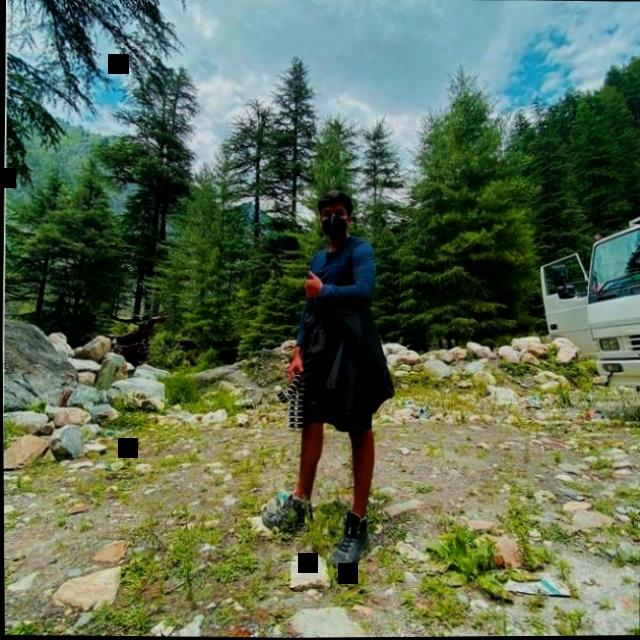Mask: (319, 202, 350, 243)
